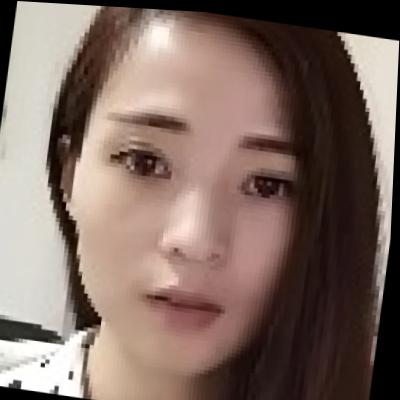sad: (61, 23, 305, 370)
